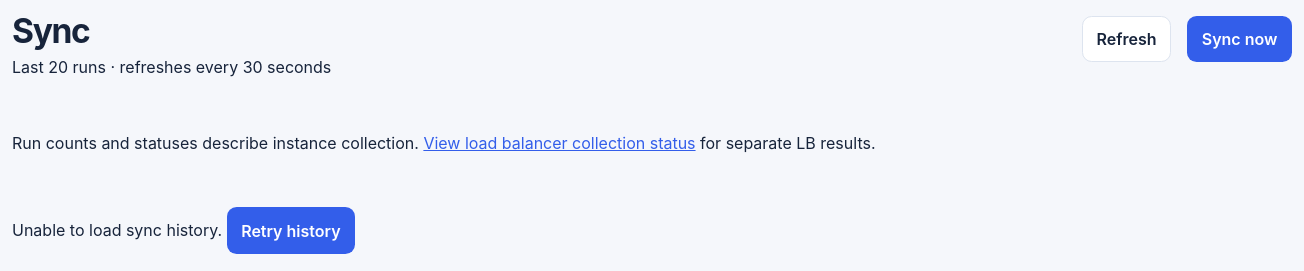
failed history can be retried
Expected: the message "Unable to load sync history. Retry history" is shown, [12,207,355,254]
Click the button "Retry history": point(291, 231) [227,207,355,254]
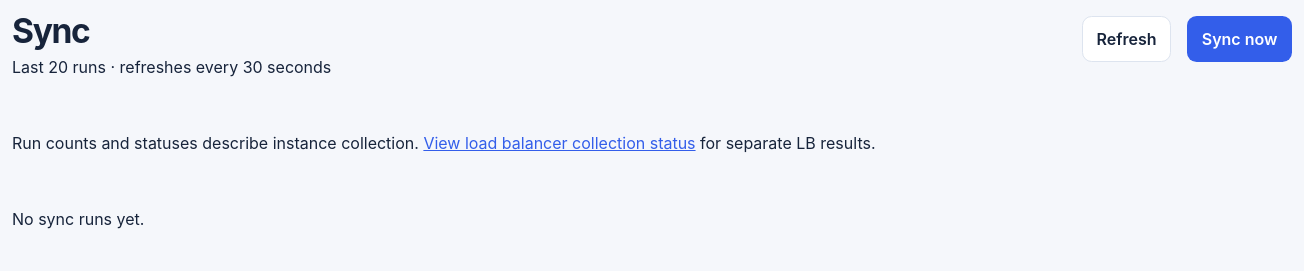
Now the text "No sync runs yet." is shown, box [12,209,144,229]
